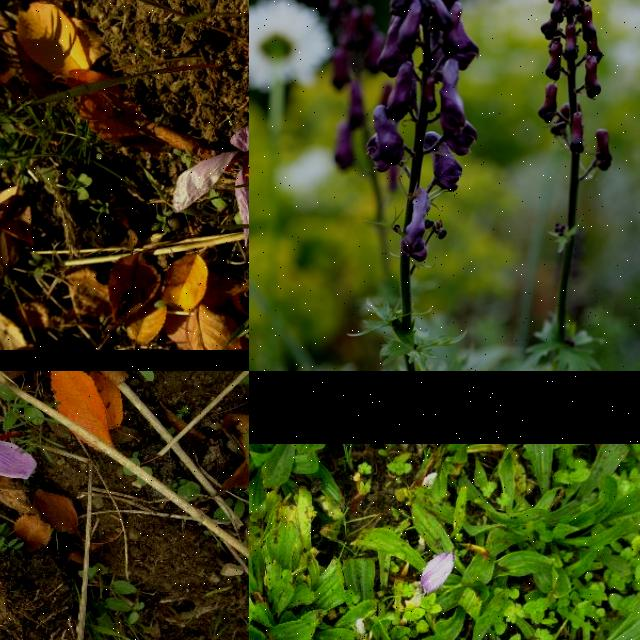flower: (172, 123, 249, 263), (0, 384, 37, 479), (420, 552, 456, 596)
